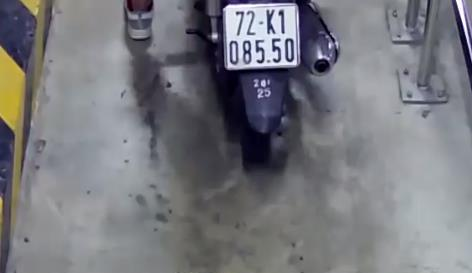lisence: (223, 1, 301, 69)
